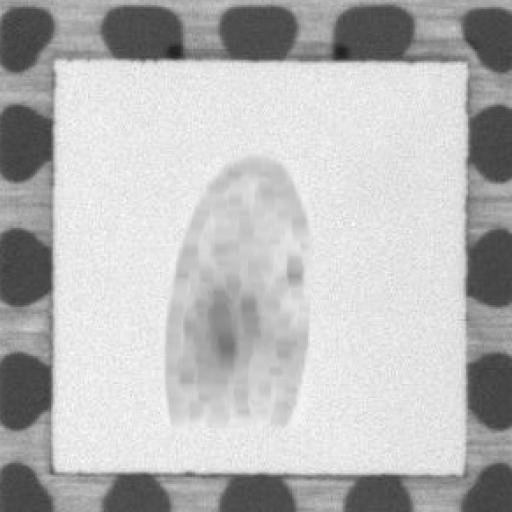DIE_INK: (150, 142, 316, 434)
